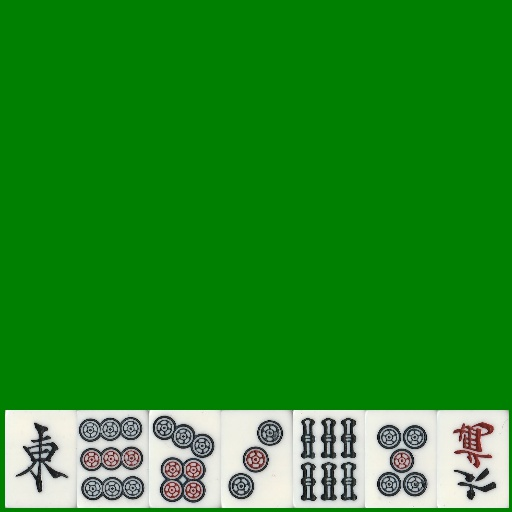3p: (221, 410, 293, 508)
5p: (365, 410, 437, 508)
6m: (437, 410, 509, 508)
6s: (293, 410, 365, 508)
7p: (149, 410, 221, 508)
9p: (77, 410, 149, 508)
east: (5, 410, 77, 508)
